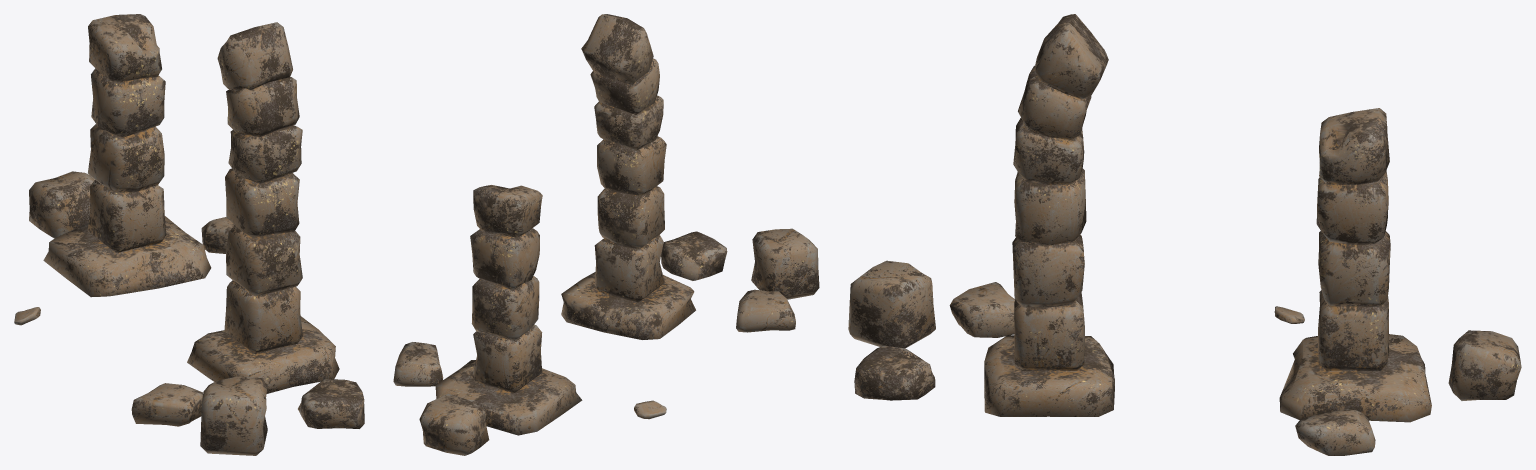
File: ancient_ruins_arc_-_low_poly.glb
The picture shows the model from 3 angles, left to right: view 1: azimuth 30°, elevation 25°; view 2: azimuth 150°, elevation 25°; view 3: azimuth 270°, elevation 25°; orthographic projection. The views are drawn at different scales.
Parts seen in each view (by area): view 1: Cube.013; view 2: Cube.013; view 3: Cube.013.
Part boxes in pixels (x1=…): Cube.013: x1=14, y1=14, x2=364, y2=455; Cube.013: x1=393, y1=14, x2=819, y2=455; Cube.013: x1=848, y1=14, x2=1521, y2=455.
Size of the model in its own units: 1.09 by 1.22 by 2.
Materials: 1 (1 with a texture image).
